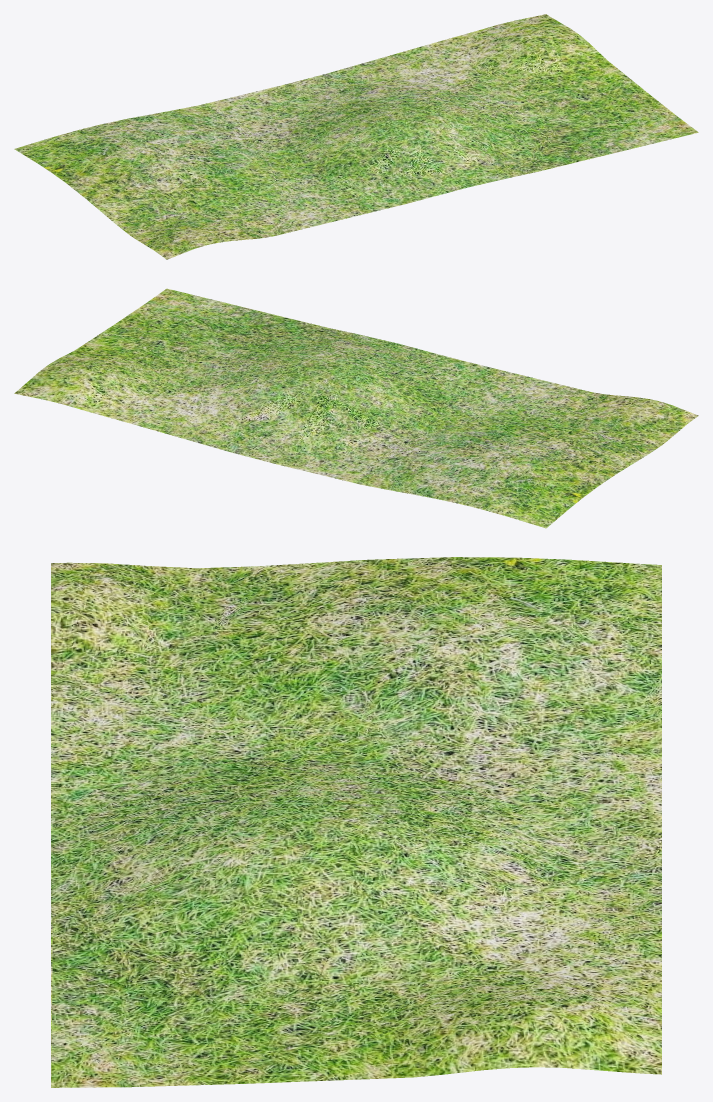
Rendered from grass_optim.obj.
3 views of the same model, one above another, from view 1: azimuth 30°, elevation 25°; view 2: azimuth 150°, elevation 25°; view 3: azimuth 270°, elevation 25° (orthographic). The views are drawn at different scales.
Visible parts, largest first — view 1: grass; view 2: grass; view 3: grass.
Part boxes in pixels (bbox=[...]): grass: bbox=[14, 14, 698, 259]; grass: bbox=[14, 288, 698, 528]; grass: bbox=[51, 557, 661, 1087].
Size of the model in its own units: 12.08 by 0.4464 by 6.
